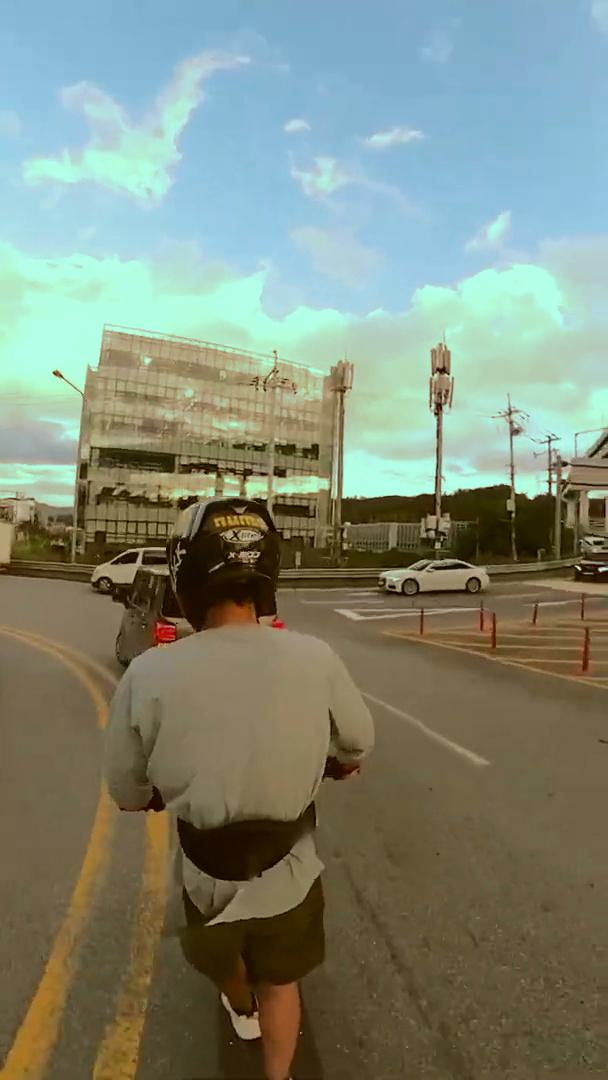helmet: (98, 497, 381, 1080)
